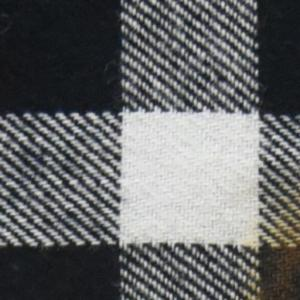Oil Stain: (237, 182, 300, 300)
